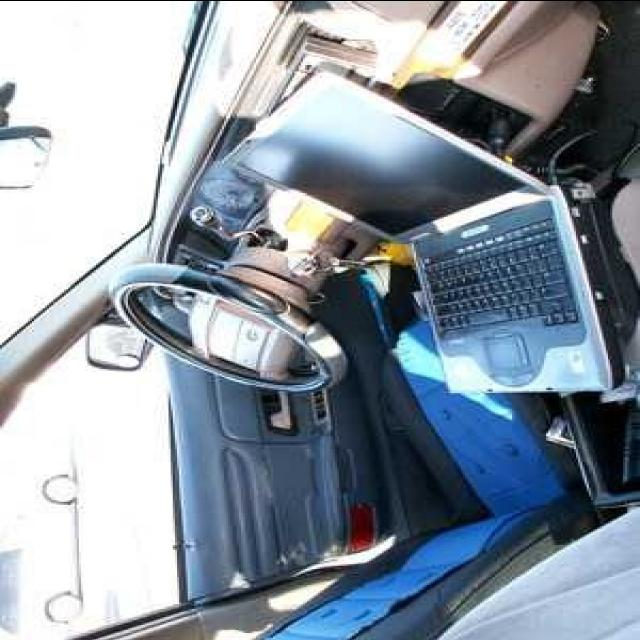laptop: (243, 70, 606, 383)
